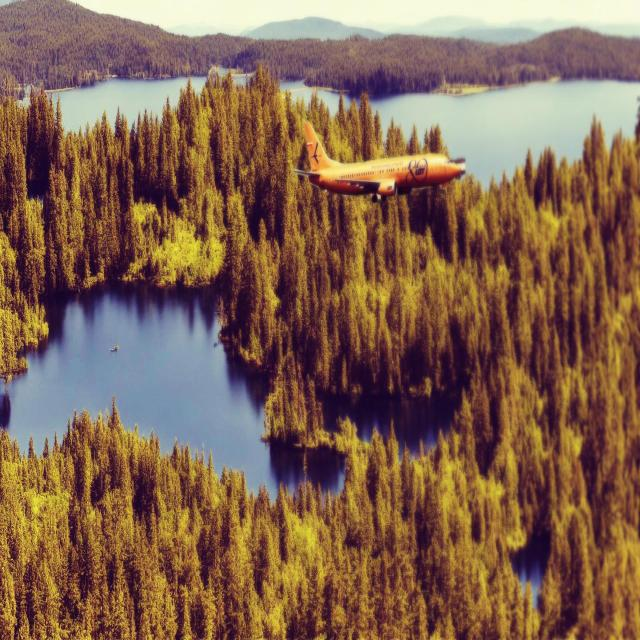airplane: (292, 120, 466, 204)
